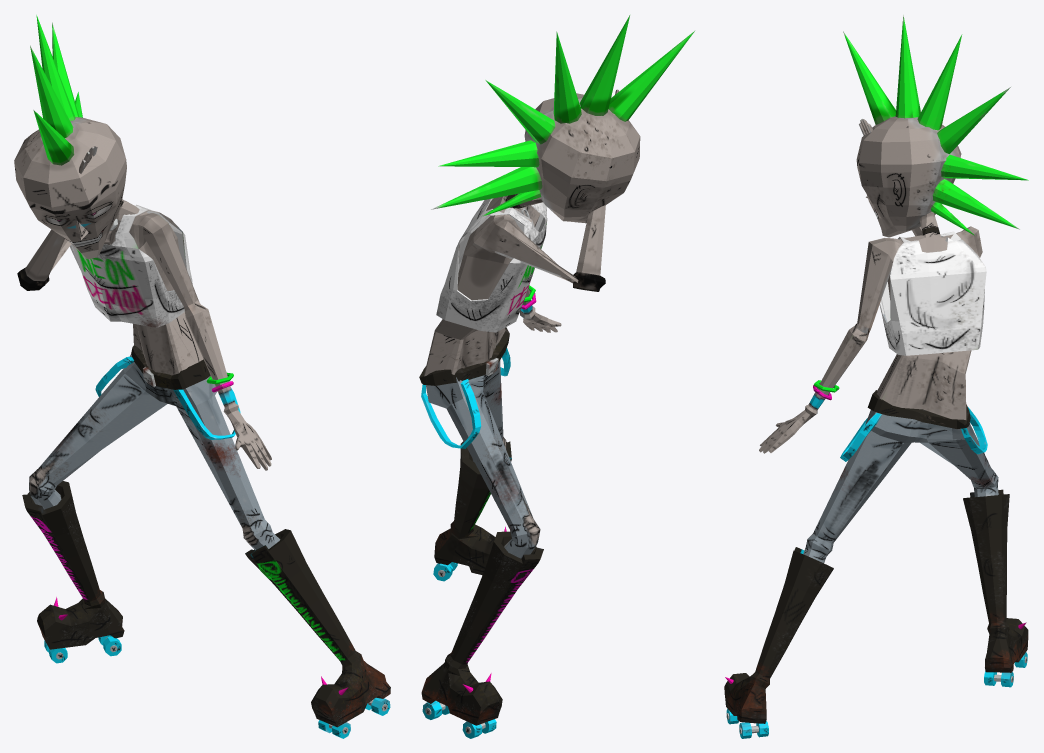
Rendered from punkAnimation_000044.obj.
3 views of the same model, side by side, from view 1: azimuth 30°, elevation 25°; view 2: azimuth 150°, elevation 25°; view 3: azimuth 270°, elevation 25° (orthographic). The views are drawn at different scales.
Parts seen in each view (by area): view 1: Cube.004_Cube.003; view 2: Cube.004_Cube.003; view 3: Cube.004_Cube.003.
Part boxes in pixels (x1,y1,x2,y2): Cube.004_Cube.003: (14, 15, 390, 738); Cube.004_Cube.003: (419, 15, 694, 738); Cube.004_Cube.003: (724, 15, 1028, 738).
Bounding box in the file's own units: 3.14 × 6.72 × 3.03.
